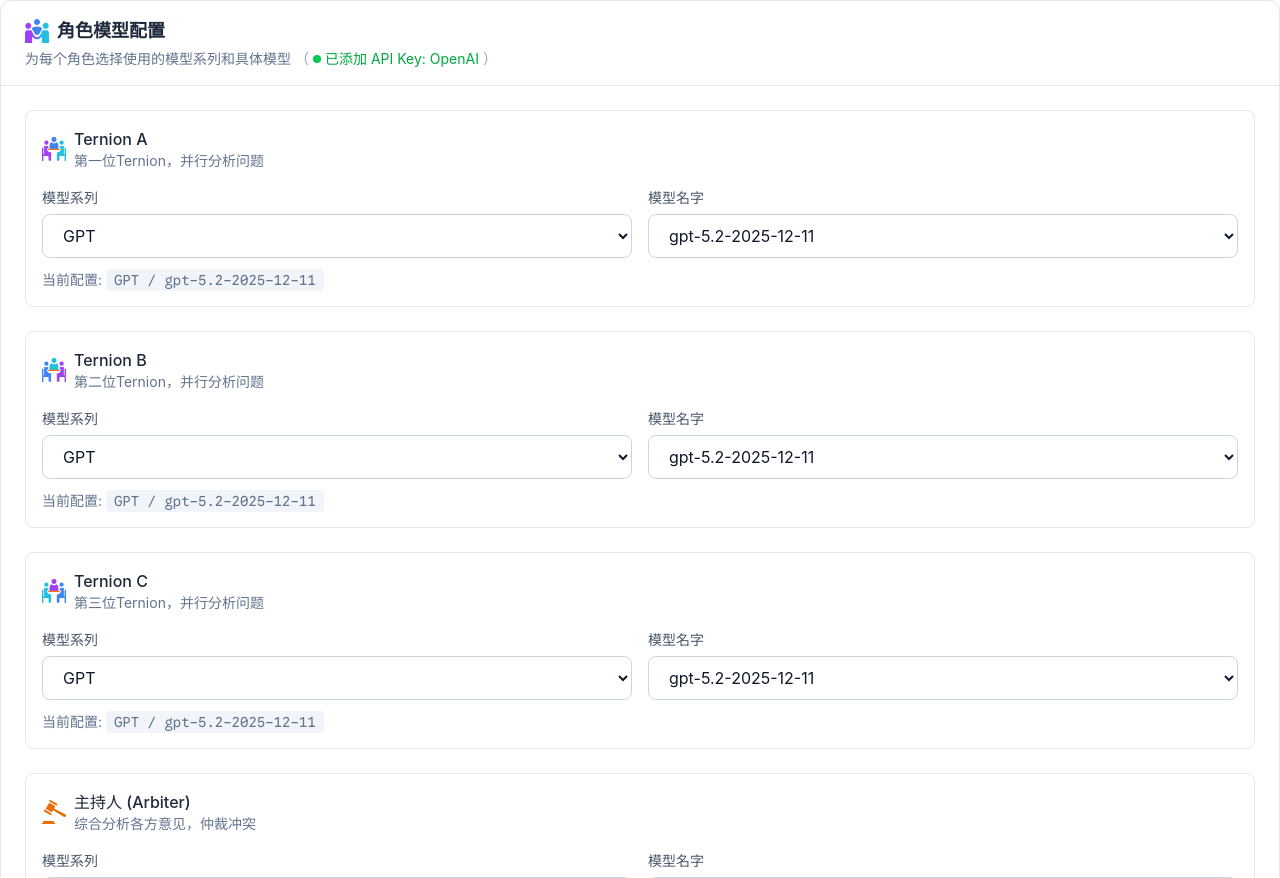
it: RoleModelConfig › shows retry and refresh actions when save fails with MODEL_UNAVAILABLE
The image size is (1280, 878).
Select "gpt-5.3-codex" in the 2nd dropdown at coordinates (943, 236), box [648,214,1238,258]
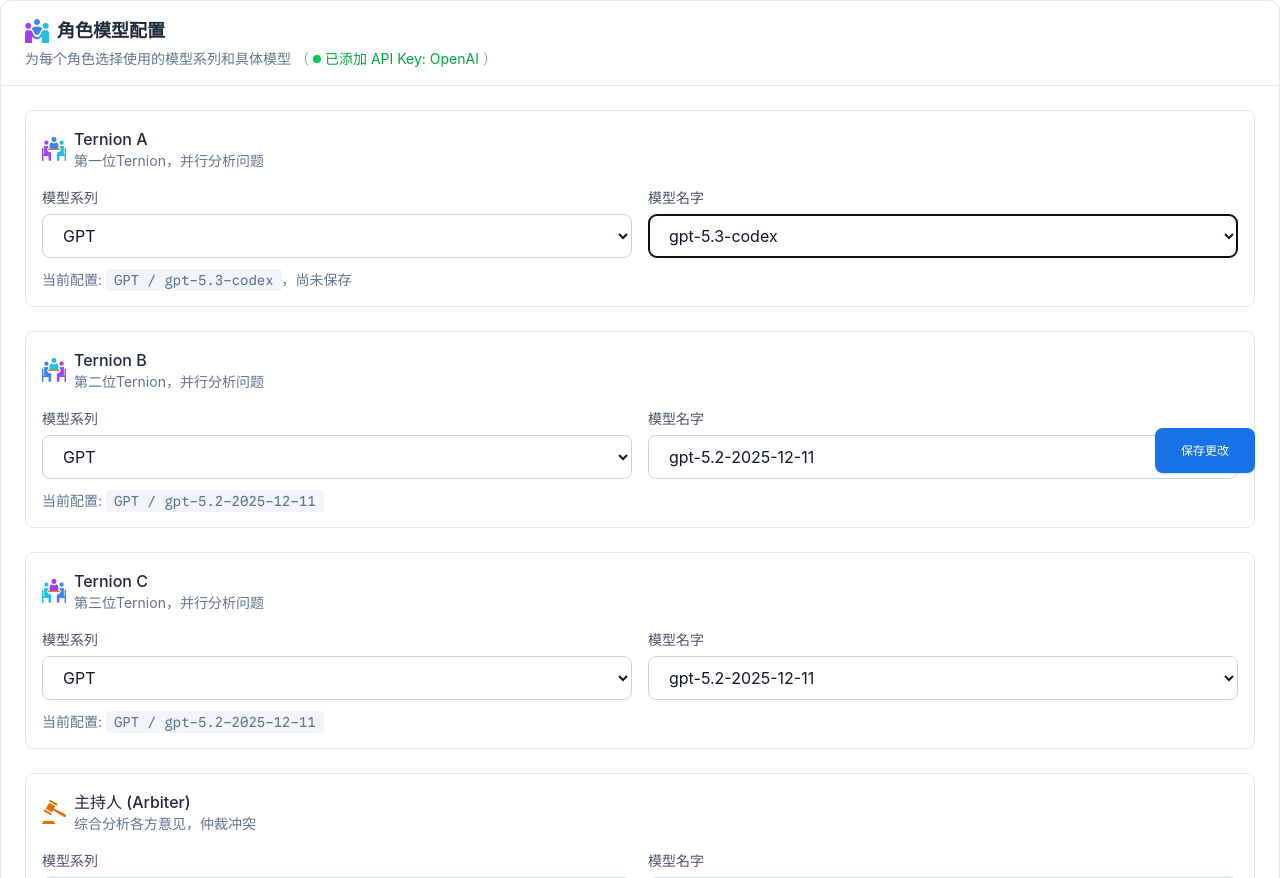
Result: the number of buttons "保存更改" is 1
Click the button "保存更改" at coordinates (1205, 450), box [1155,428,1255,472]
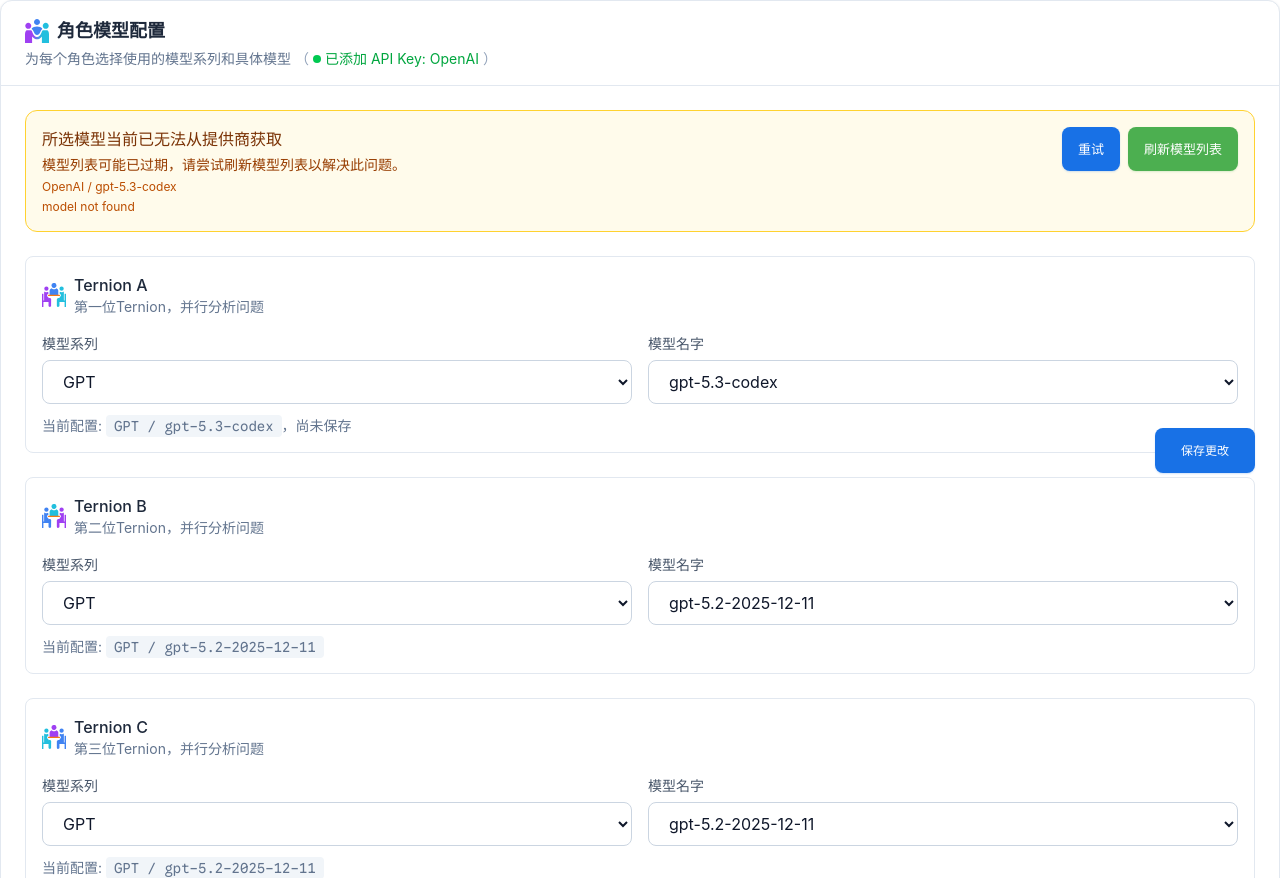
Result: the text "所选模型当前已无法从提供商获取" is shown at [42,129,282,149]
Result: the button "重试" is shown at [1062,127,1120,171]
Result: the button "刷新模型列表" is shown at [1128,127,1238,171]
